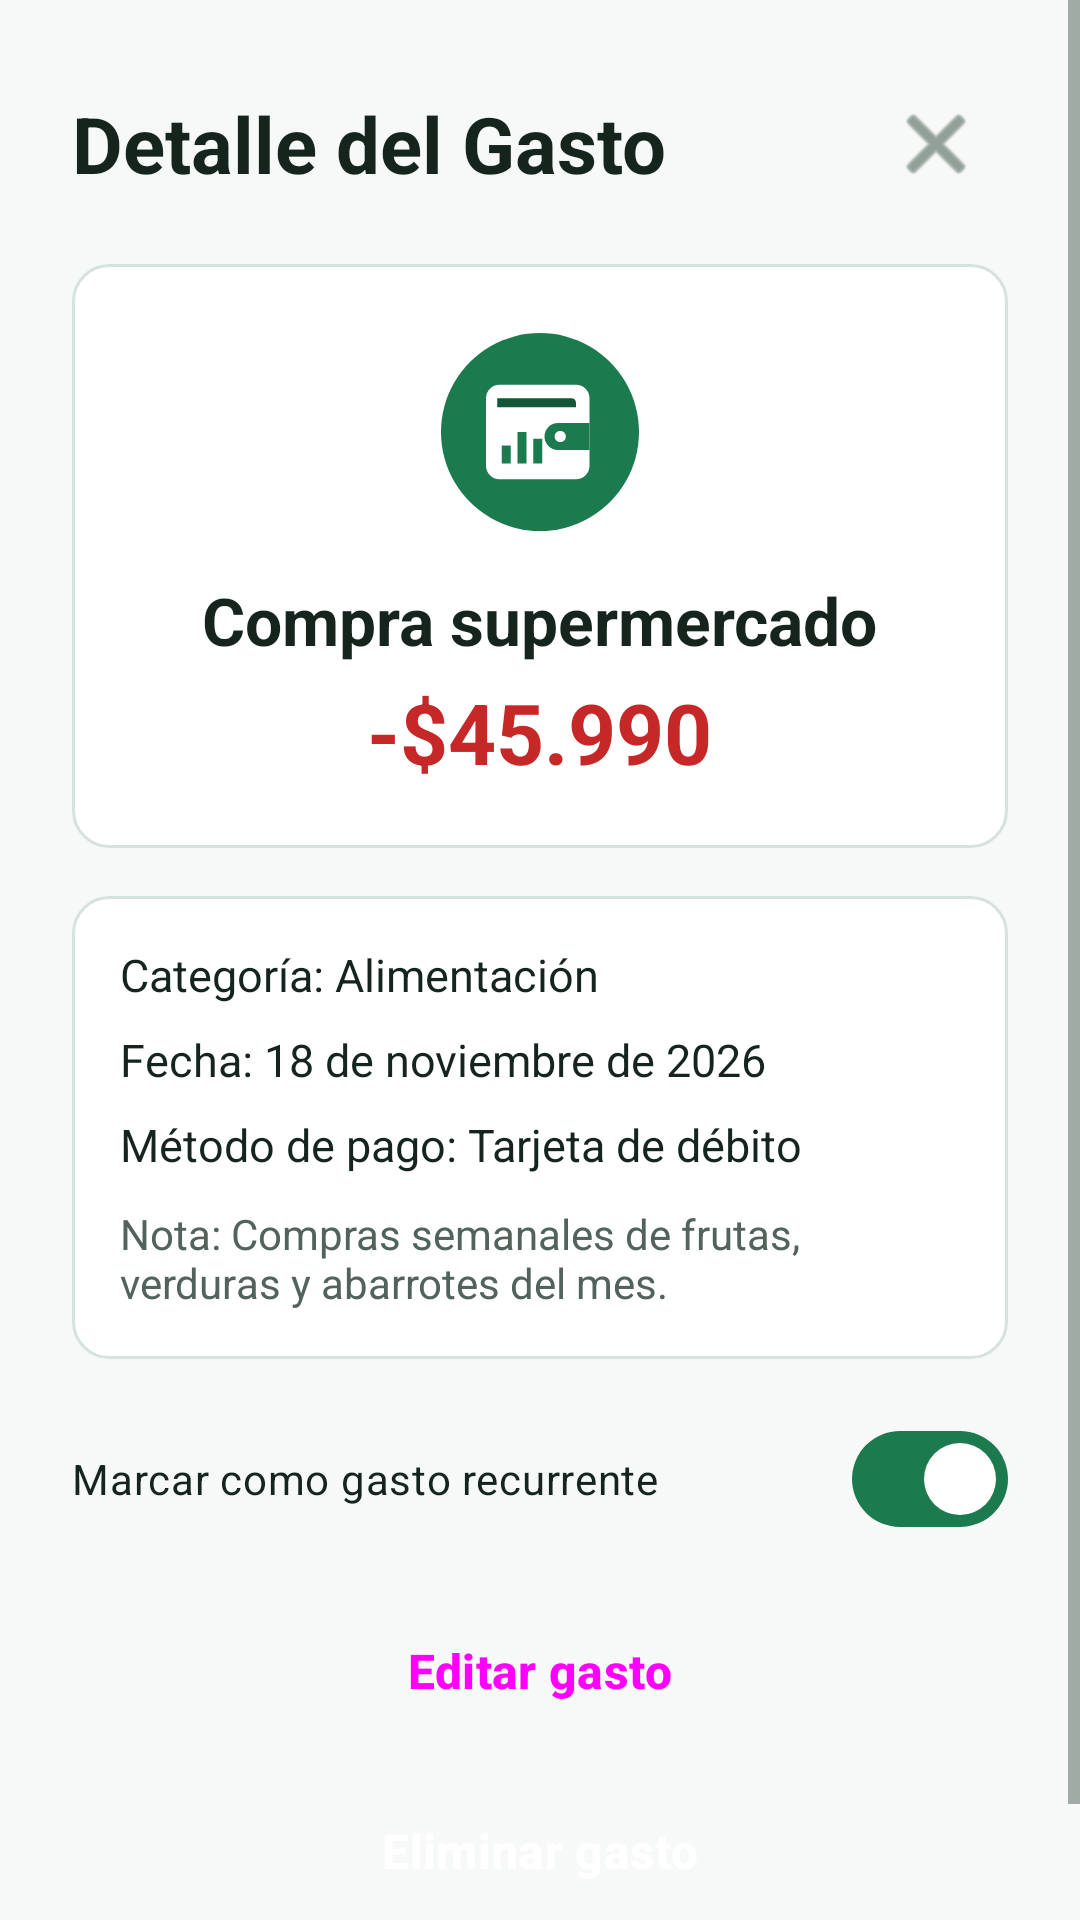

Icon bounding boxes for this 1080 x 1920 phone screenshot, format (x1, y1, x2, y2):
Volver a la lista: (906, 114, 966, 174)
